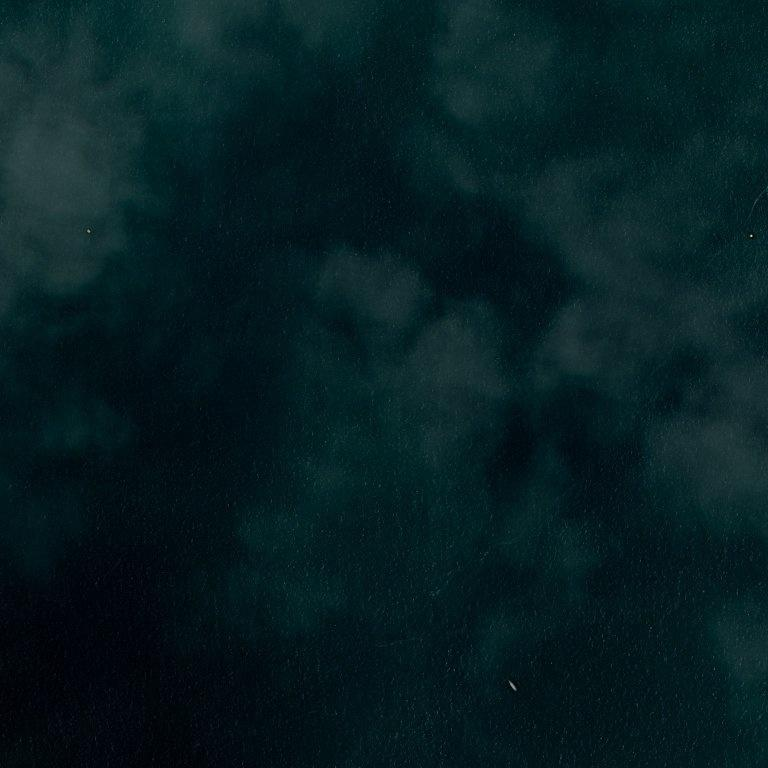ship: (508, 679, 519, 692)
